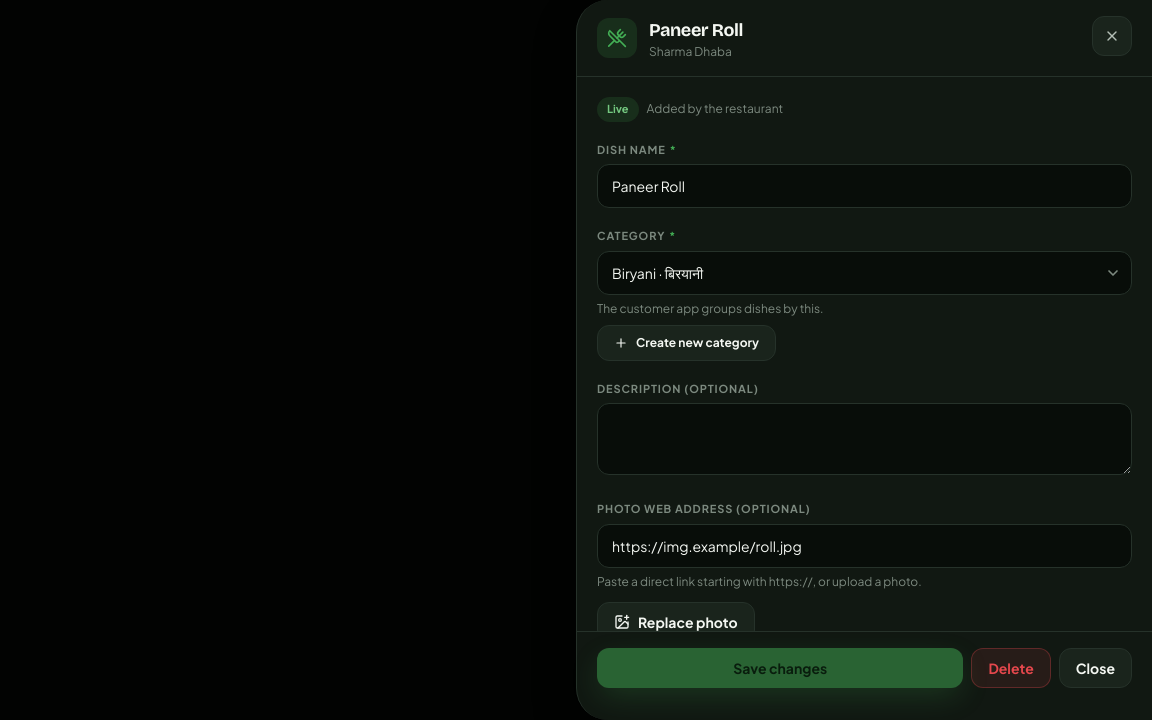
category select › the server rejecting the category shows its sentence with the suggestions and reloads the list
Select "Biryani · बिरयानी" in the dropdown with id "dish-category" at [864, 272], box [597, 250, 1132, 294]
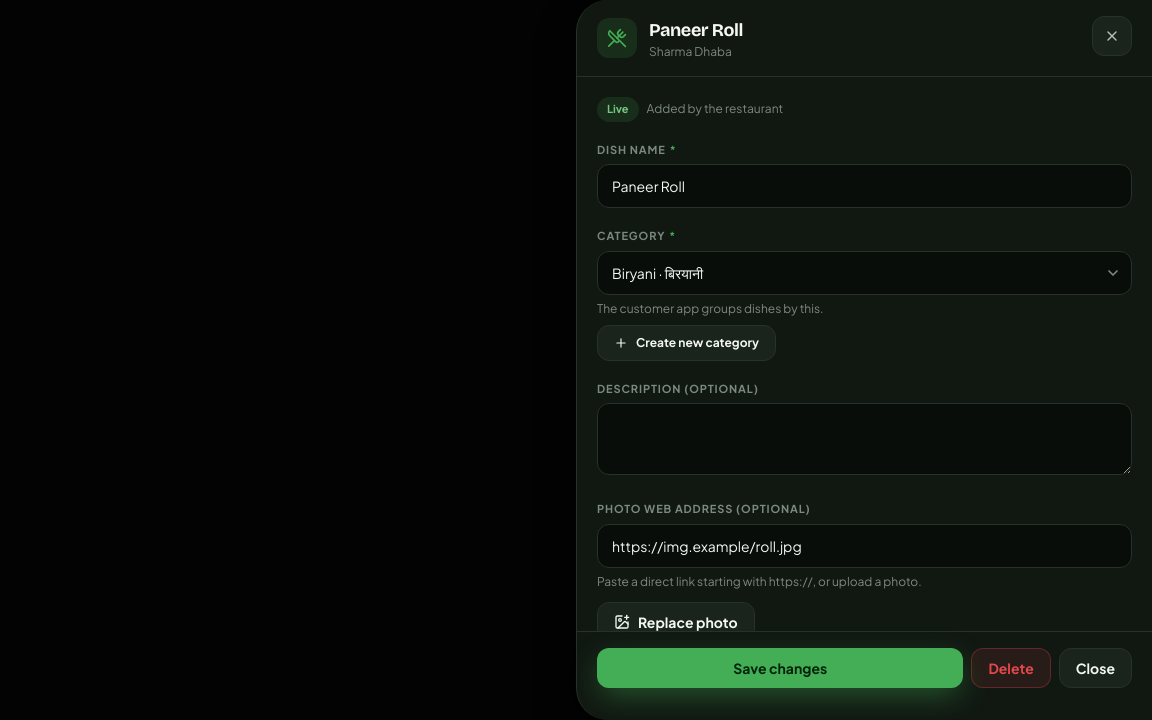
Click the button "Save changes".
click(780, 668)  # box [597, 648, 963, 688]
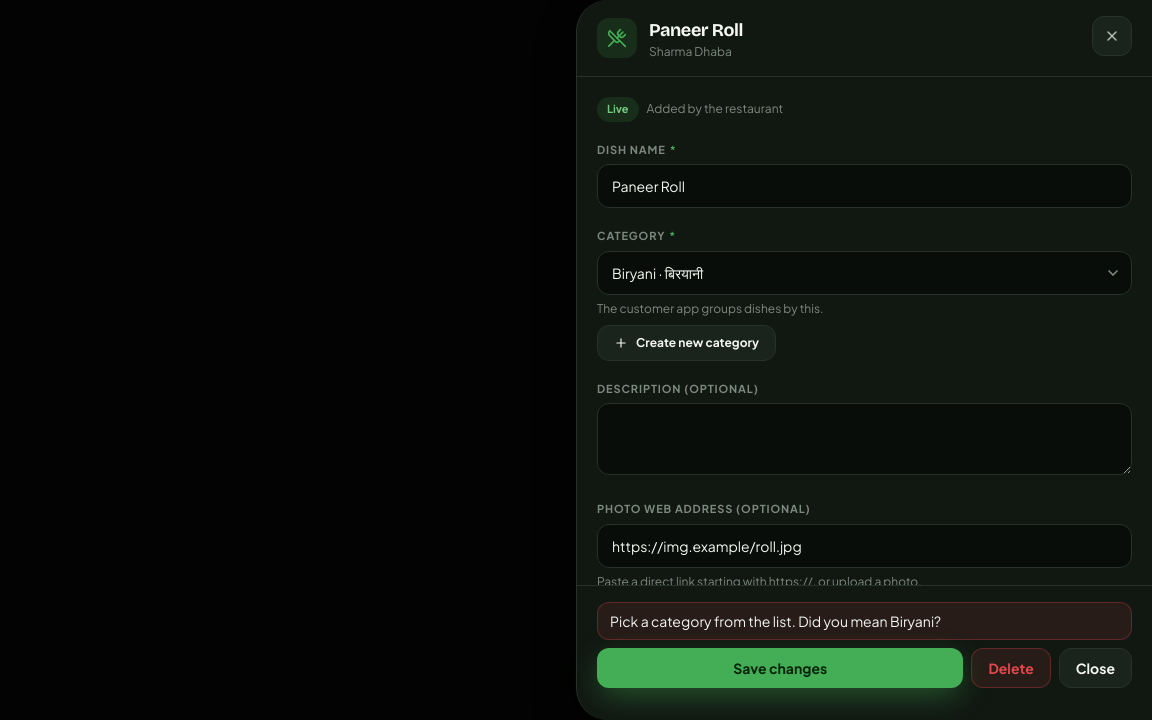
Result: the message "Pick a category from the list. Did you mean Biryani?" is shown at [597, 602, 1132, 640]
